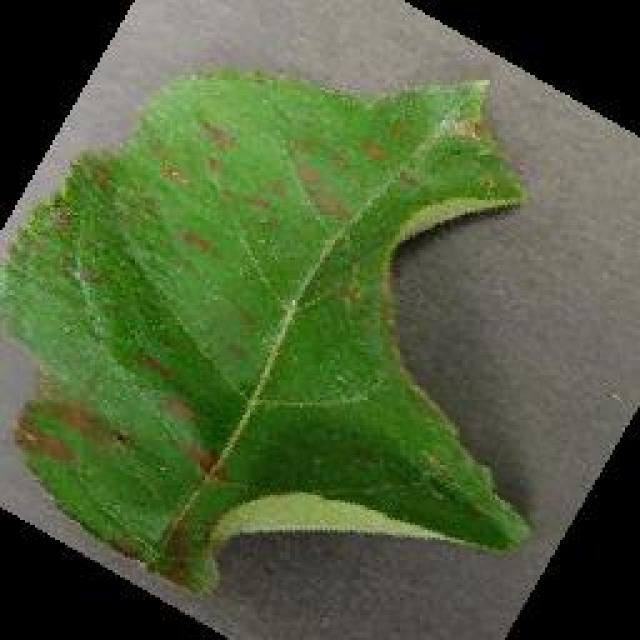apple scab disease: (0, 63, 535, 595)
